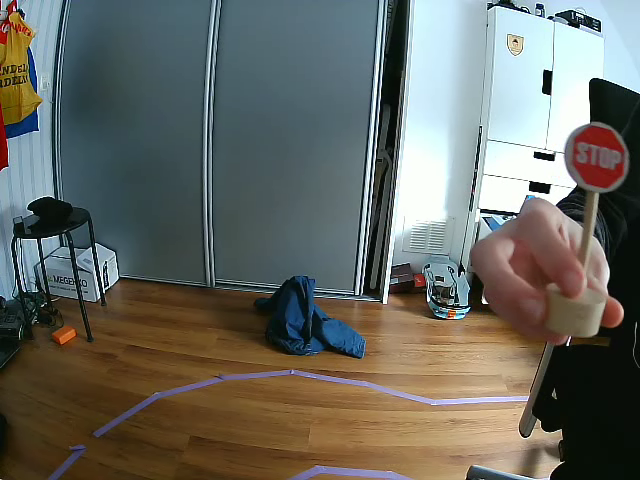stopbord: (562, 123, 628, 192)
